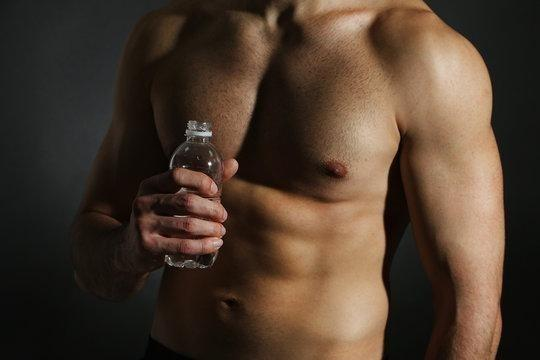bottle-plastic: (163, 117, 225, 271)
